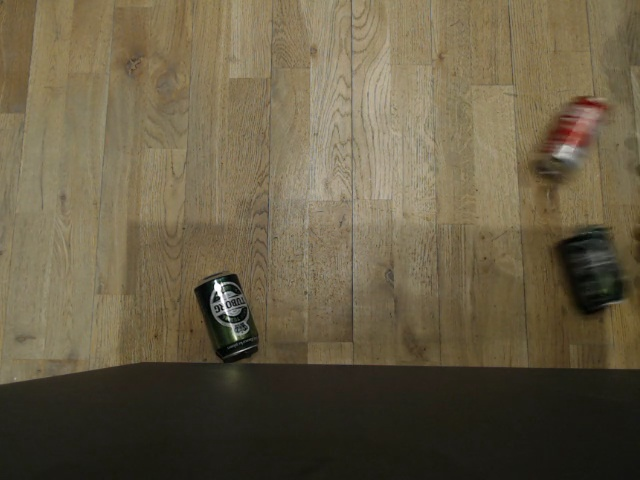beer: (556, 227, 624, 314), (193, 271, 258, 362)
cola: (534, 95, 608, 179)
